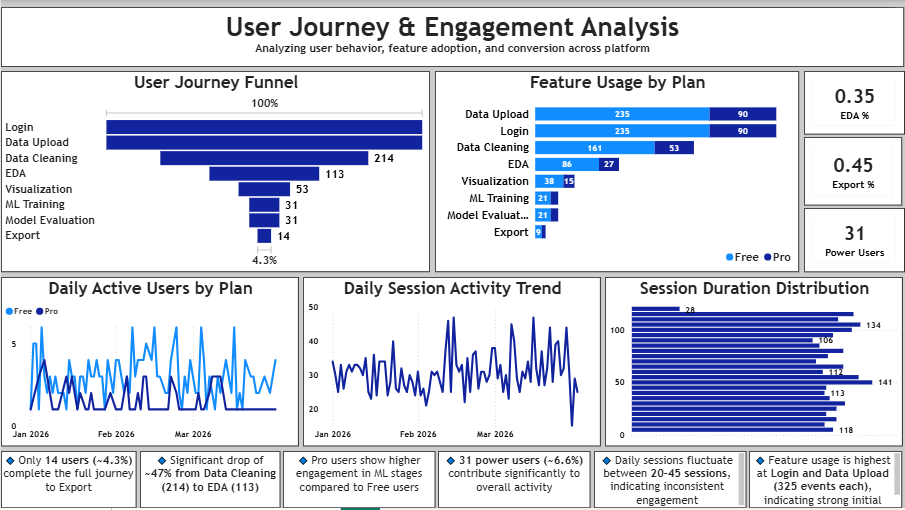

The page's visual inventory and layout, read from the dashboard file:
{"tool":"powerbi","page":{"name":"User Journey & Behaviour Analysis","canvas":[1280,720],"ordinal":1},"visuals":[{"type":"funnel","title":"User Journey Funnel","fields":{"Y":["Events.Login","Events.Data Upload","Events.Data Cleaning","Events.EDA","Events.Visualization","Events.ML Training","Events.Model Evaluation","Events.Export"]},"box":[0,100.8,608,285.1],"z":0},{"type":"cardVisual","fields":{"Data":["Events.EDA %"]},"box":[1138,100,142.6,90],"z":1000},{"type":"textbox","box":[0,10.1,1280.2,85],"z":2000},{"type":"cardVisual","fields":{"Data":["Events.Power Users"]},"box":[1137.6,295.2,142.6,90.7],"z":3000},{"type":"cardVisual","fields":{"Data":["Events.Export %"]},"box":[1138.1,194.2,138.9,97],"z":4000},{"type":"barChart","title":"Feature Usage by Plan","fields":{"Category":["Events.event_type"],"Y":["CountNonNull(Events.event_id)"],"Series":["Users.plan_type"]},"box":[614.9,100.8,516,285.1],"z":5000},{"type":"lineChart","title":"Daily Active Users by Plan","fields":{"Y":["Events.DAU"],"Series":["Users.plan_type"],"Category":["Events.event_date Hierarchy.event_date"]},"box":[0,393.1,422,240],"z":6000},{"type":"barChart","title":"Session Duration Distribution","fields":{"Y":["CountNonNull(Sessions.session_id)"],"Category":["Sessions.session_duration (bins)"]},"box":[856,393.1,422,240],"z":7000},{"type":"lineChart","title":"Daily Session Activity Trend","fields":{"Y":["CountNonNull(Sessions.session_id)"],"Category":["Sessions.session_date"]},"box":[428,393.1,422,240],"z":8000},{"type":"textbox","box":[0,639.4,191.5,80.6],"z":9000},{"type":"textbox","box":[197,639.4,198.7,80.6],"z":10000},{"type":"textbox","box":[400,639.4,216,80.6],"z":11000},{"type":"textbox","box":[620,639.4,216,80.6],"z":12000},{"type":"textbox","box":[840,639.4,216,80.6],"z":13000},{"type":"textbox","box":[1059.8,639.4,217.4,80.6],"z":14000},{"type":"slicer","fields":{"Values":["Date.date"]},"box":[1267.1,0,12.9,10],"z":18000},{"type":"slicer","fields":{"Values":["Users.country"]},"box":[1267.1,0,12.8,9.9],"z":19000},{"type":"slicer","fields":{"Values":["Users.plan_type"]},"box":[1267.1,0,12.8,9.9],"z":20000}]}

Visuals, with their boxes in screenshot pixels (x1, y1, x2, y2), scaled from the page's 1280x720 canvas onto the 905x510 screenshot:
"User Journey Funnel" funnel: box=[0, 71, 430, 273]
cardVisual - Events.EDA %: box=[805, 71, 904, 135]
textbox: box=[0, 7, 904, 67]
cardVisual - Events.Power Users: box=[804, 209, 904, 273]
cardVisual - Events.Export %: box=[805, 138, 903, 206]
"Feature Usage by Plan" barChart: box=[435, 71, 800, 273]
"Daily Active Users by Plan" lineChart: box=[0, 278, 298, 448]
"Session Duration Distribution" barChart: box=[605, 278, 904, 448]
"Daily Session Activity Trend" lineChart: box=[303, 278, 601, 448]
textbox: box=[0, 453, 135, 509]
textbox: box=[139, 453, 280, 509]
textbox: box=[283, 453, 436, 509]
textbox: box=[438, 453, 591, 509]
textbox: box=[594, 453, 747, 509]
textbox: box=[749, 453, 903, 509]
slicer - Date.date: box=[896, 0, 904, 7]
slicer - Users.country: box=[896, 0, 904, 7]
slicer - Users.plan_type: box=[896, 0, 904, 7]
